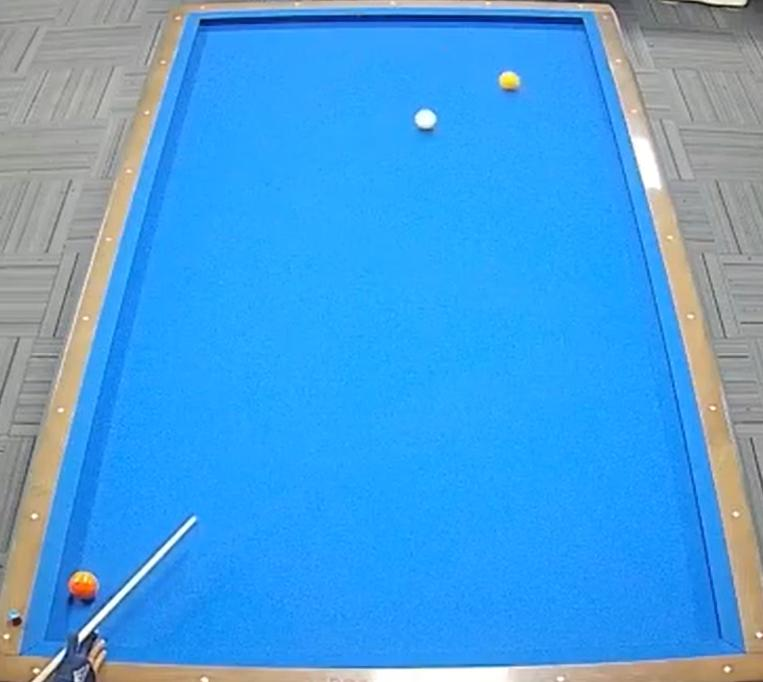orange ball: (64, 567, 104, 608)
white ball: (409, 106, 442, 140)
yellow ball: (494, 65, 528, 97)
